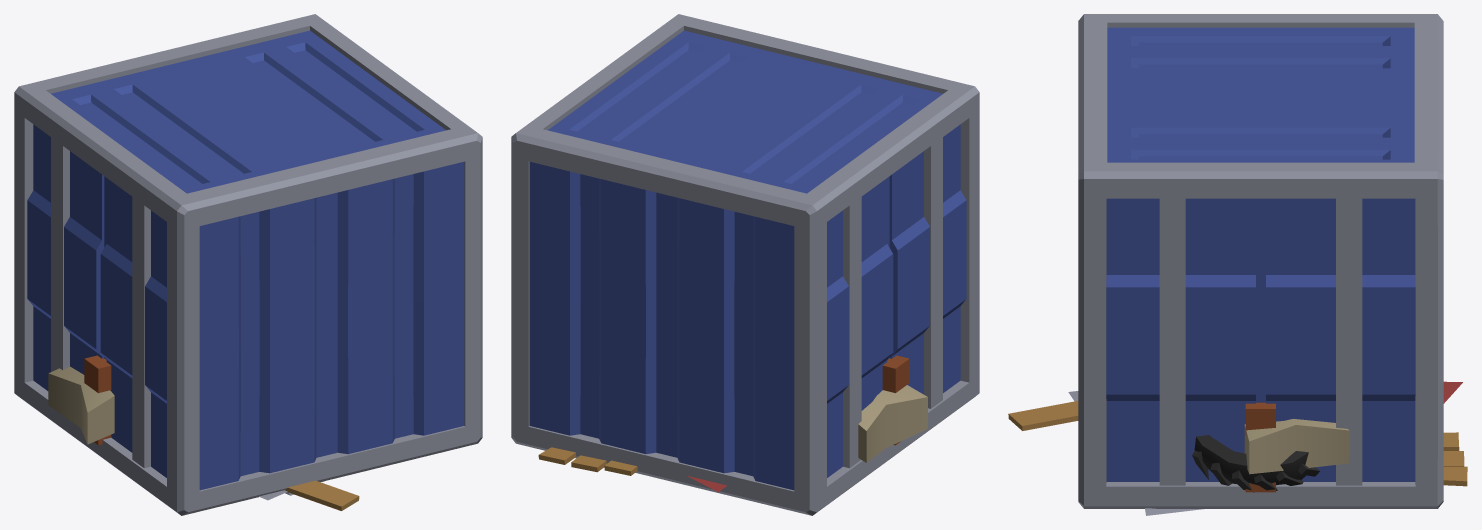
Rendered from props.glb.
3 renders of one model, left to right at view 1: azimuth 30°, elevation 25°; view 2: azimuth 150°, elevation 25°; view 3: azimuth 270°, elevation 25°, orthographic. The views are drawn at different scales.
Visible parts, largest first — view 1: Container_Small, SackTrench_Small, Debris_Pile, BrickWall_2; view 2: Container_Small, SackTrench_Small, Debris_Pile, BrickWall_2; view 3: Container_Small, SackTrench_Small, Debris_Tires, Debris_Pile, BrickWall_2.
Boxes of the visible parts, x1,y1,x2,y2 form: Container_Small: (14, 14, 482, 515); SackTrench_Small: (48, 366, 114, 444); Debris_Pile: (259, 480, 359, 510); BrickWall_2: (84, 355, 111, 445); Container_Small: (511, 14, 979, 515); SackTrench_Small: (858, 385, 927, 462); Debris_Pile: (538, 447, 727, 491); BrickWall_2: (882, 355, 909, 445); Container_Small: (1078, 14, 1443, 508); SackTrench_Small: (1244, 418, 1349, 474); Debris_Tires: (1192, 435, 1319, 492); Debris_Pile: (1008, 381, 1467, 515); BrickWall_2: (1245, 402, 1275, 492).
Size of the model in its own units: 2.48 by 2.45 by 2.63.
